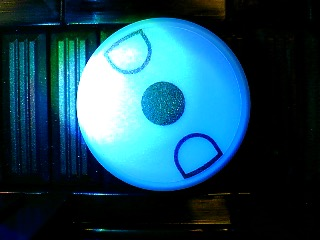BOHOMIPO2: (75, 17, 251, 191)
